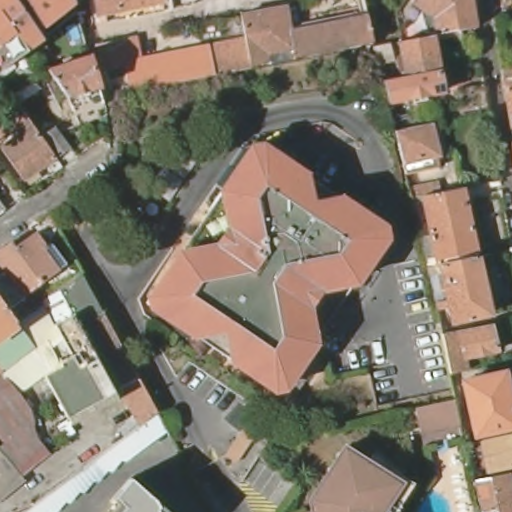pool: (402, 483, 456, 512), (65, 23, 85, 45)
